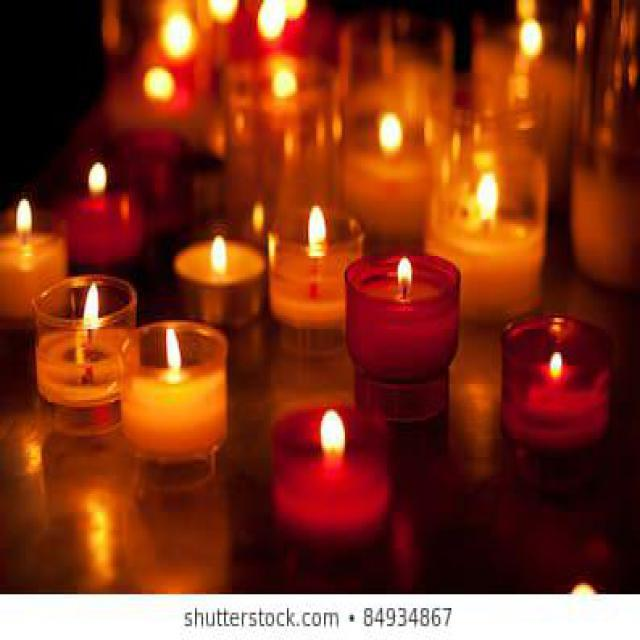Fire: (321, 409, 345, 457), (84, 280, 98, 340), (166, 327, 182, 375), (16, 198, 32, 242), (398, 254, 411, 290)
